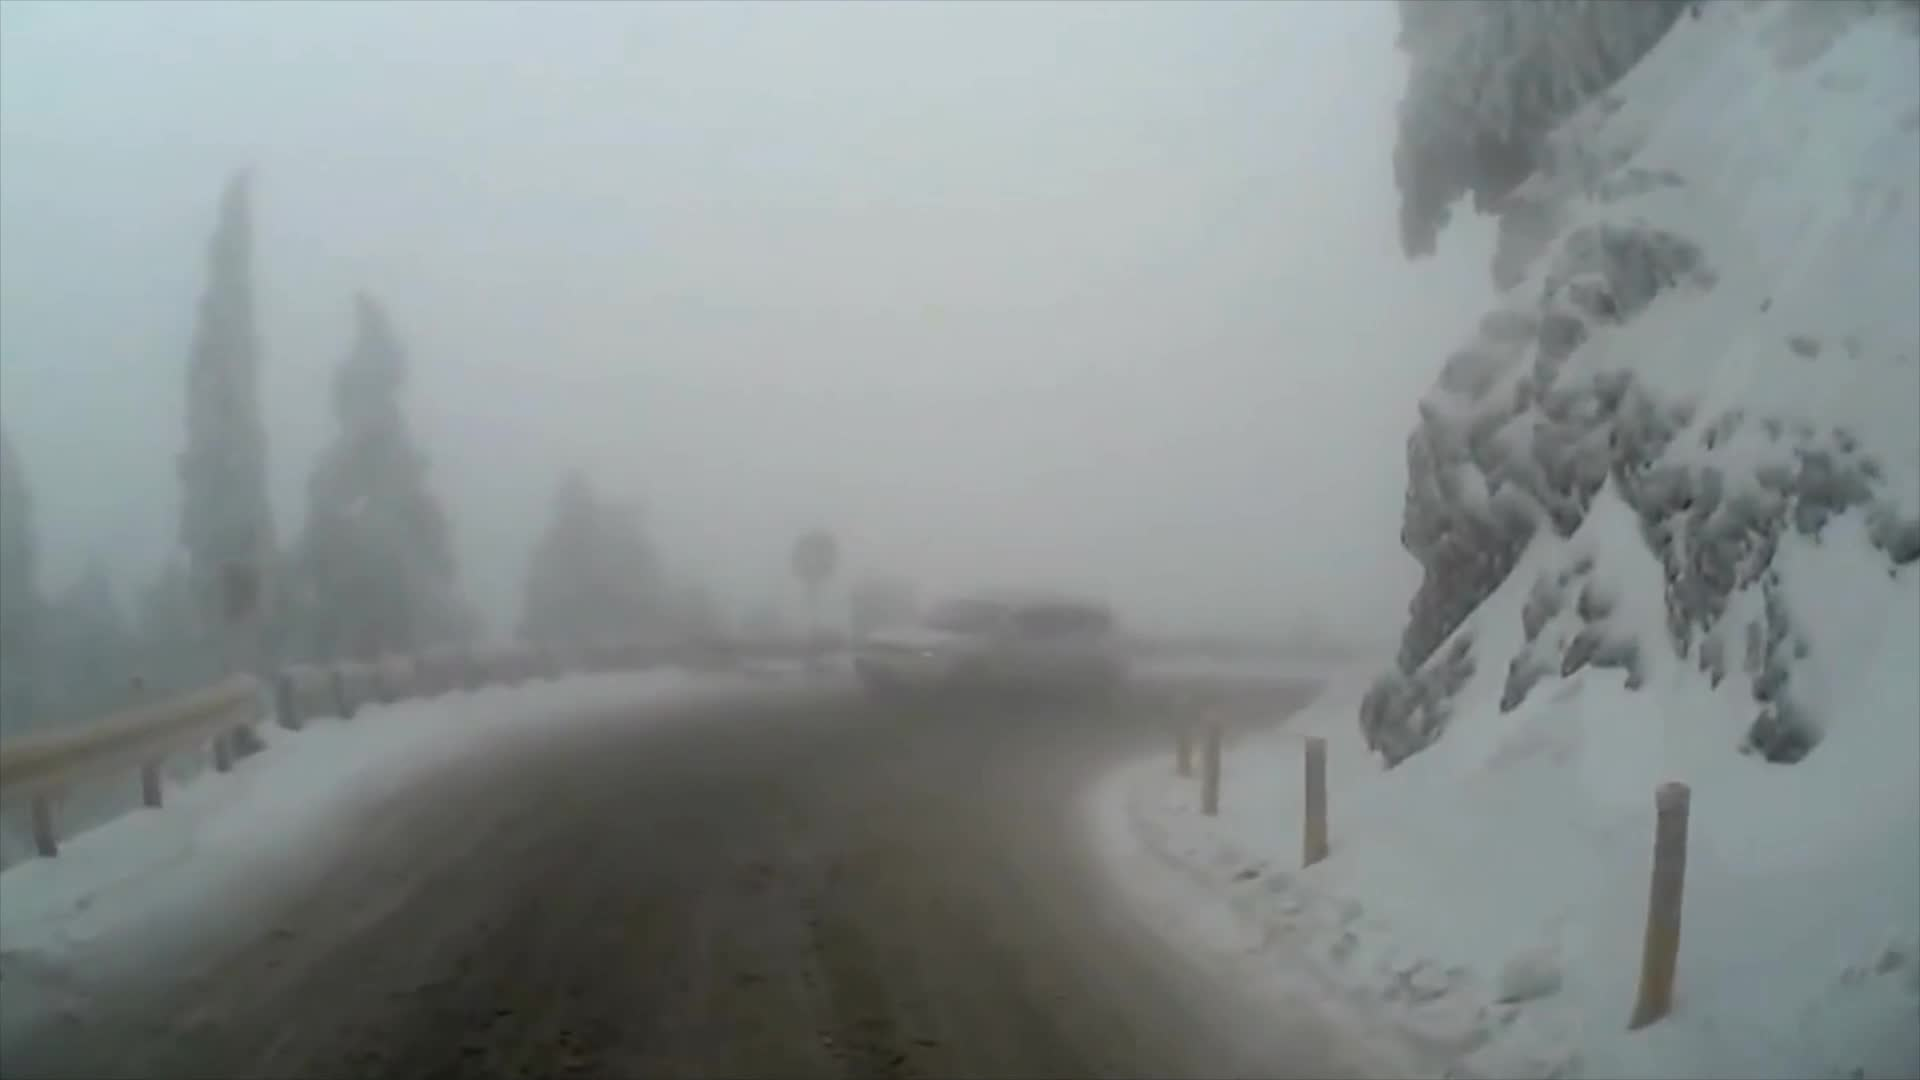vehicle: (847, 588, 1125, 719)
